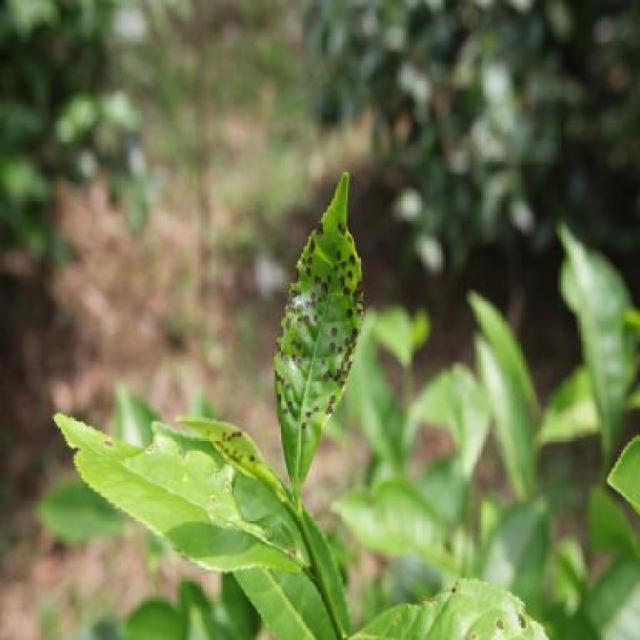Tea Mosquito bug infested leaf: (271, 160, 378, 512)
